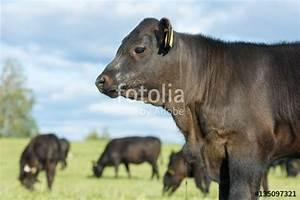cow: (94, 16, 299, 199), (91, 135, 161, 180), (18, 132, 70, 191)
